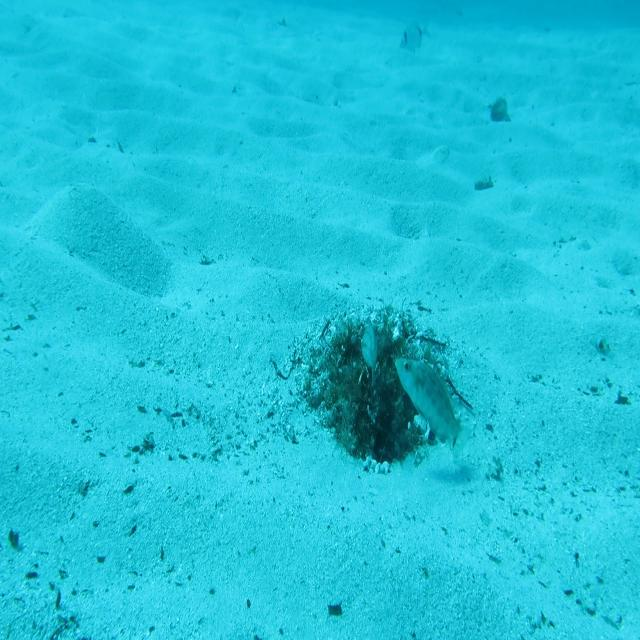LF: (393, 355, 474, 466)
core_nest: (344, 334, 392, 365)
female: (360, 322, 379, 387)
nest: (293, 297, 462, 480)
other_fish: (397, 20, 432, 55)
vegetation: (488, 92, 512, 127), (325, 598, 346, 620), (474, 174, 496, 192)
